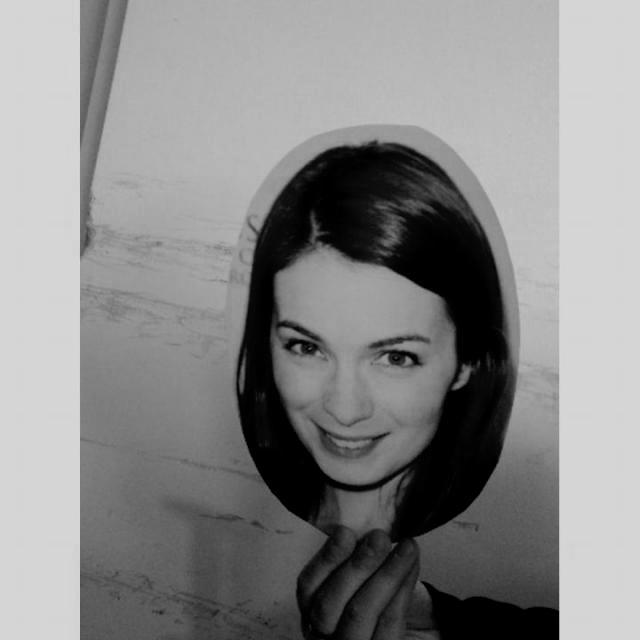fake: (226, 118, 531, 549)
